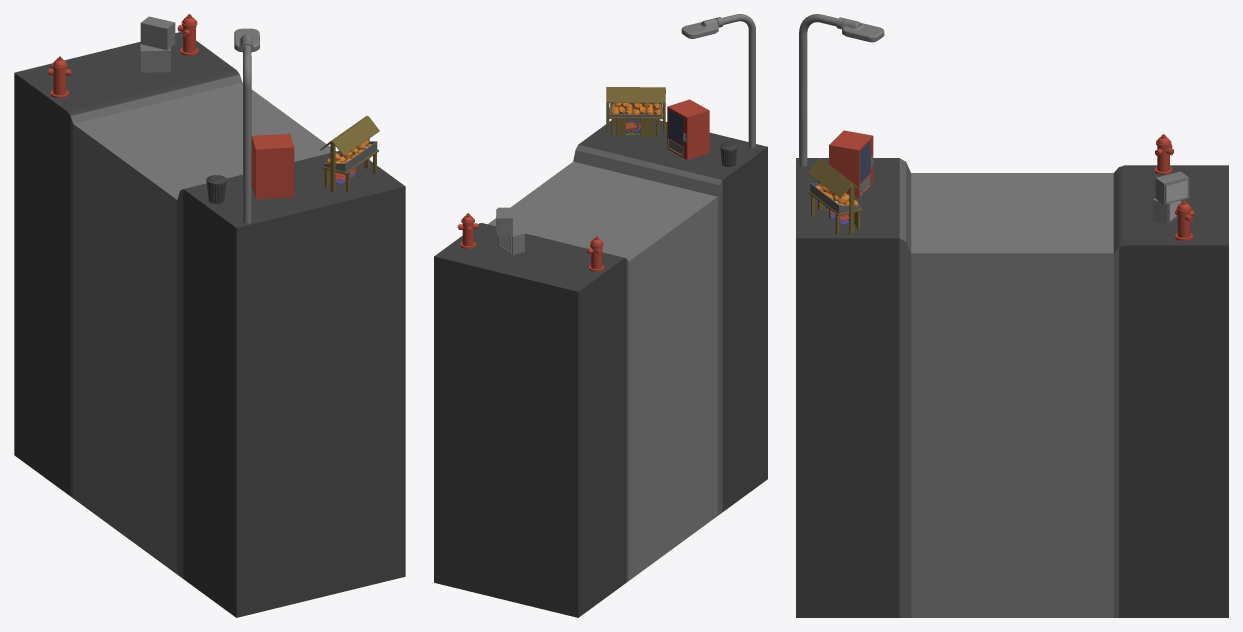
File: Cubo_C.fbx
3 renders of one model, left to right at view 1: azimuth 30°, elevation 25°; view 2: azimuth 150°, elevation 25°; view 3: azimuth 270°, elevation 25°, orthographic. The views are drawn at different scales.
Parts seen in each view (by area): view 1: pCube1, polySurface304, polySurface213, polySurface268, polySurface264, polySurface269; view 2: pCube1, polySurface304, polySurface213, polySurface265, polySurface26, polySurface215; view 3: pCube1, polySurface304, polySurface213, polySurface264, polySurface215.
Boxes of the visible parts, bbox=[...] form: pCube1: bbox=[14, 32, 405, 617]; polySurface304: bbox=[251, 133, 294, 199]; polySurface213: bbox=[241, 41, 252, 223]; polySurface268: bbox=[140, 16, 175, 50]; polySurface264: bbox=[332, 116, 379, 156]; polySurface269: bbox=[140, 44, 170, 72]; pCube1: bbox=[434, 119, 767, 617]; polySurface304: bbox=[667, 99, 709, 159]; polySurface213: bbox=[715, 14, 755, 147]; polySurface265: bbox=[606, 87, 665, 103]; polySurface26: bbox=[611, 103, 661, 114]; polySurface215: bbox=[681, 18, 718, 38]; pCube1: bbox=[796, 158, 1228, 617]; polySurface304: bbox=[829, 130, 873, 198]; polySurface213: bbox=[799, 14, 845, 166]; polySurface264: bbox=[808, 159, 851, 198]; polySurface215: bbox=[842, 18, 884, 41].
Size of the model in its own units: 10.55 by 32.76 by 24.
